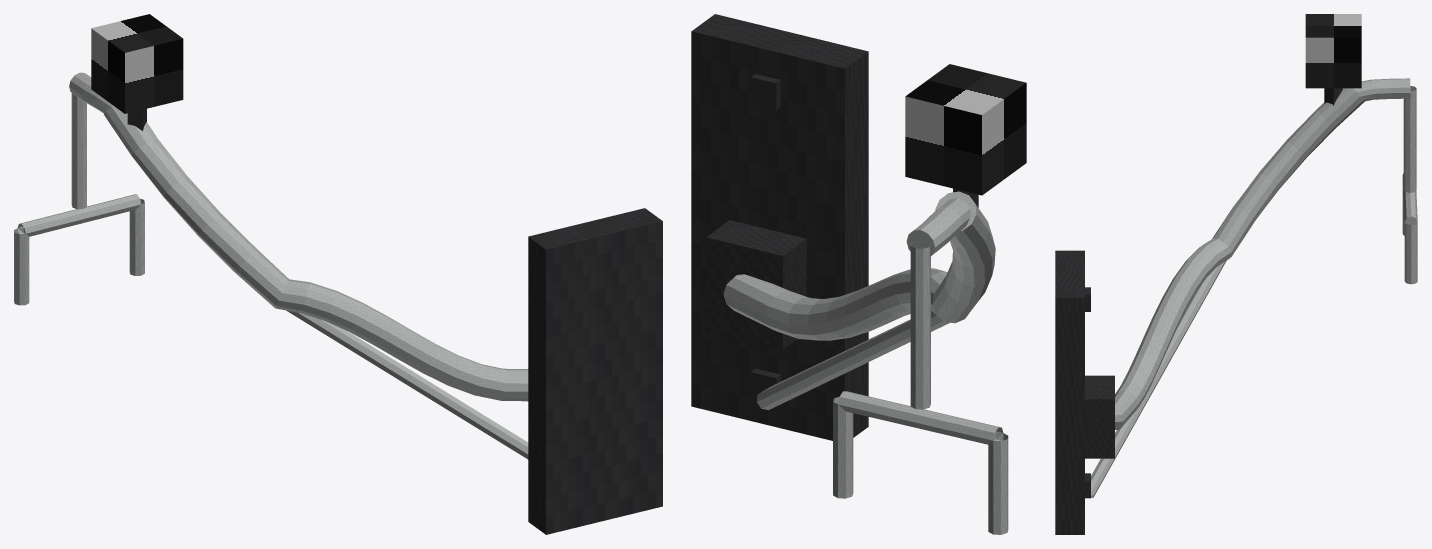
File: arm_2_left_flood_down.obj
3 views of the same model, side by side, from view 1: azimuth 30°, elevation 25°; view 2: azimuth 150°, elevation 25°; view 3: azimuth 270°, elevation 25° (orthographic). The views are drawn at different scales.
Parts seen in each view (by area): view 1: pole_light_mount_2_left_flood_down; view 2: pole_light_mount_2_left_flood_down; view 3: pole_light_mount_2_left_flood_down.
Boxes of the visible parts, x1,y1,x2,y2 form: pole_light_mount_2_left_flood_down: (14, 14, 662, 534); pole_light_mount_2_left_flood_down: (691, 14, 1026, 534); pole_light_mount_2_left_flood_down: (1055, 14, 1417, 534).
Size of the model in its own units: 1.4 by 1.34 by 1.21.
